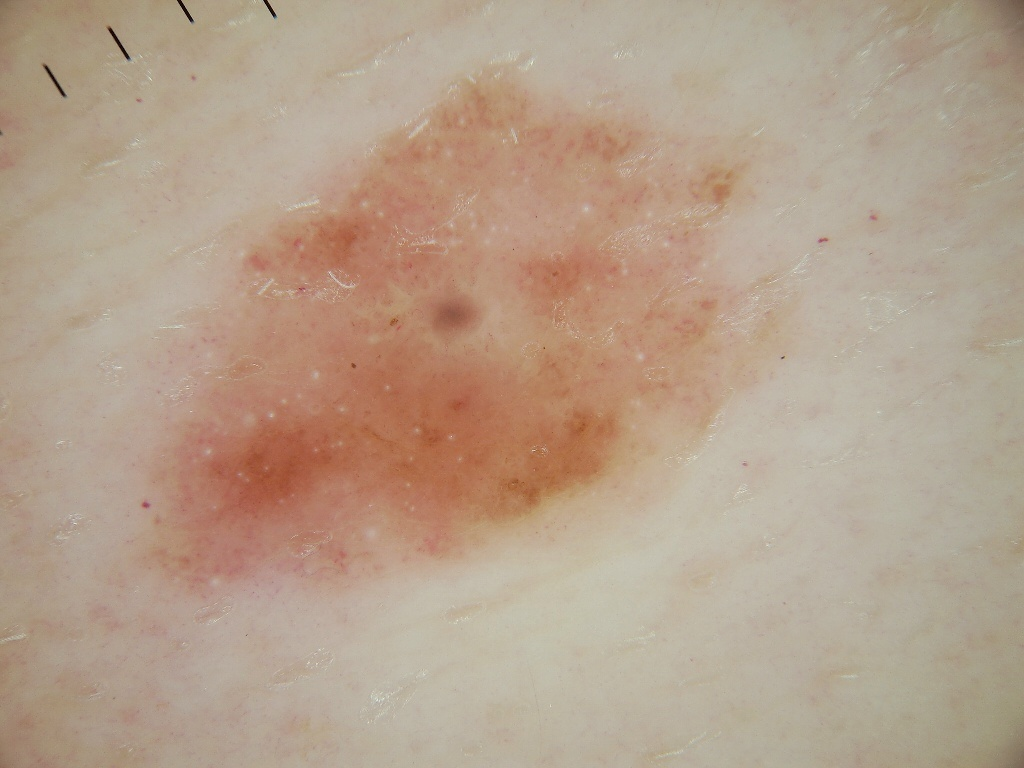Detected Lesion: (141, 59, 814, 626)
